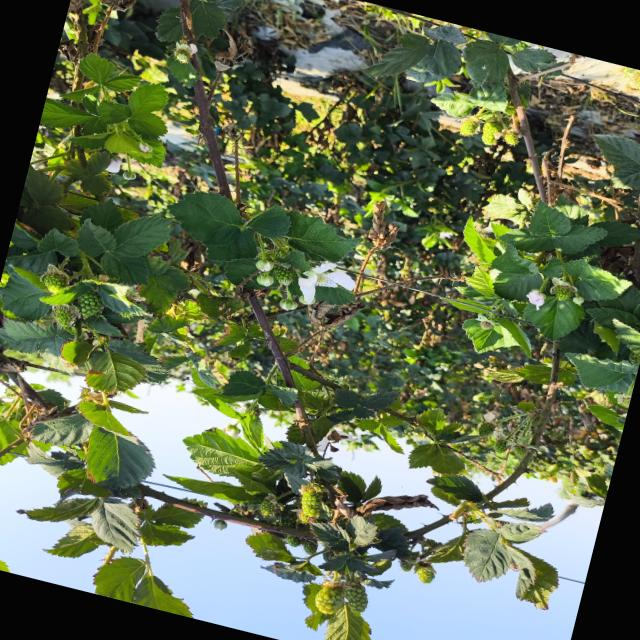boton: (255, 259, 273, 272), (279, 298, 297, 310), (256, 274, 274, 286), (122, 170, 136, 180), (138, 142, 152, 152), (298, 296, 313, 305), (572, 296, 584, 305)
flor: (298, 262, 354, 304)
verde: (315, 584, 344, 614), (299, 485, 322, 522), (41, 264, 69, 294), (76, 291, 103, 318), (345, 584, 367, 613), (52, 304, 79, 327), (272, 266, 293, 285), (552, 285, 572, 299)
